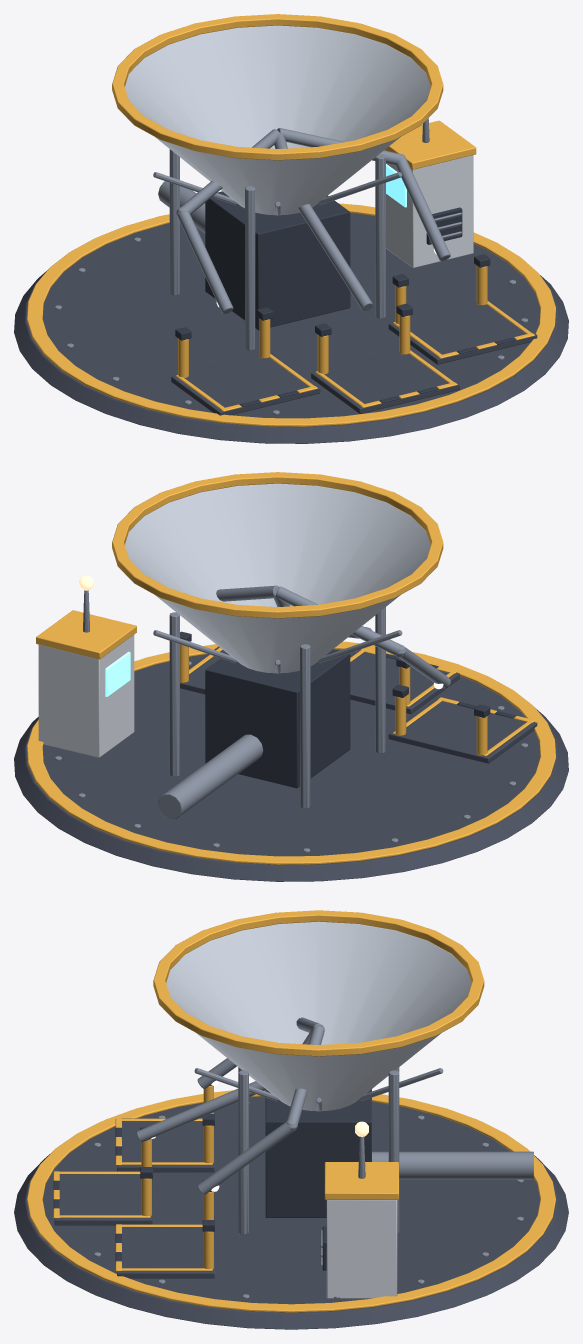
3 views of the same model, one above another, from view 1: azimuth 30°, elevation 25°; view 2: azimuth 150°, elevation 25°; view 3: azimuth 270°, elevation 25° (orthographic).
Parts seen in each view (by area): view 1: u3_Koerper; view 2: u3_Koerper; view 3: u3_Koerper.
Boxes of the visible parts, left/top/right/bottom form: u3_Koerper: left=14, top=14, right=568, bottom=443; u3_Koerper: left=14, top=472, right=568, bottom=881; u3_Koerper: left=14, top=910, right=568, bottom=1329.
Size of the model in its own units: 7.09 by 3.28 by 7.09.
